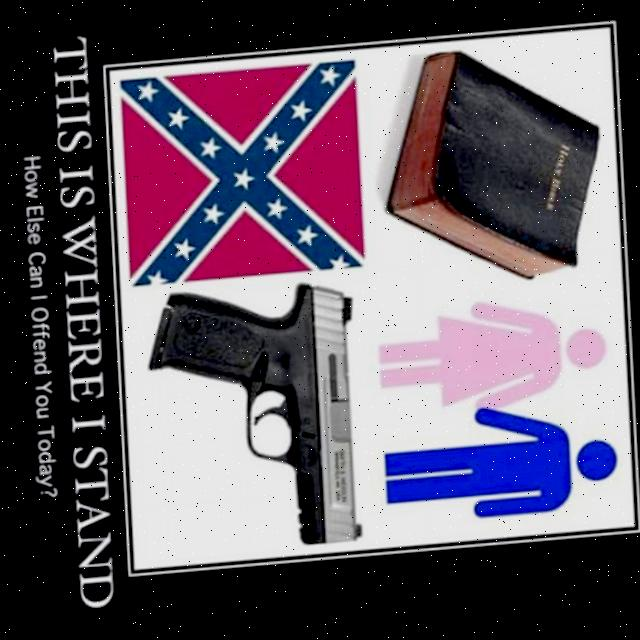pistol: (141, 275, 366, 562)
